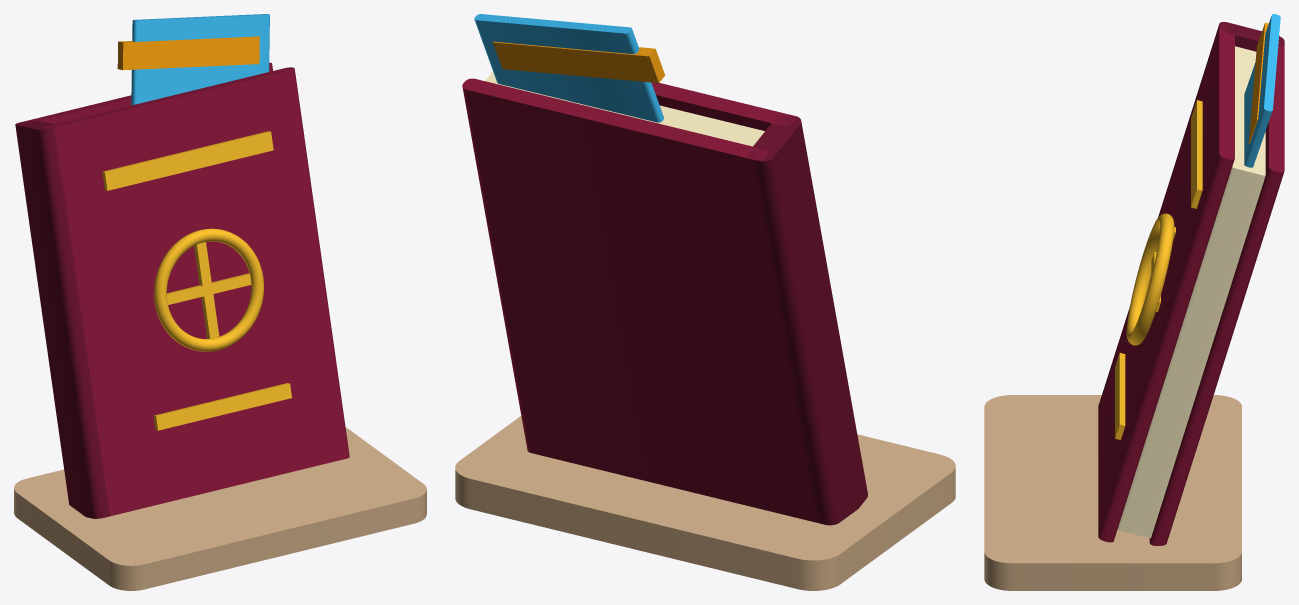
File: passport.glb
The picture shows the model from 3 angles, left to right: view 1: azimuth 30°, elevation 25°; view 2: azimuth 150°, elevation 25°; view 3: azimuth 270°, elevation 25°; orthographic projection. The views are drawn at different scales.
Visible parts, largest first — view 1: cover_front, plinth, spine, boarding_pass, globe_ring, ticket_stripe, gold_top, gold_bot, globe_v, cover_back, globe_h; view 2: cover_back, plinth, spine, boarding_pass, ticket_stripe, cover_front, pages; view 3: plinth, cover_front, pages, cover_back, globe_ring, boarding_pass, spine, gold_top, gold_bot, ticket_stripe.
Part boxes in pixels (left/top/right/bottom): cover_front: left=43, top=67, right=349, bottom=516; plinth: left=14, top=427, right=426, bottom=590; spine: left=15, top=120, right=109, bottom=518; boarding_pass: left=131, top=14, right=269, bottom=105; globe_ring: left=154, top=228, right=263, bottom=351; ticket_stripe: left=117, top=36, right=259, bottom=70; gold_top: left=102, top=131, right=273, bottom=190; gold_bot: left=153, top=383, right=291, bottom=430; globe_v: left=194, top=242, right=219, bottom=338; cover_back: left=23, top=62, right=272, bottom=123; globe_h: left=167, top=273, right=251, bottom=304; cover_back: left=462, top=78, right=817, bottom=522; plinth: left=455, top=416, right=955, bottom=590; spine: left=748, top=114, right=867, bottom=525; boarding_pass: left=474, top=14, right=663, bottom=122; ticket_stripe: left=493, top=41, right=665, bottom=83; cover_front: left=651, top=82, right=795, bottom=130; pages: left=485, top=71, right=764, bottom=146; plinth: left=984, top=395, right=1241, bottom=590; cover_front: left=1098, top=24, right=1234, bottom=542; pages: left=1117, top=46, right=1265, bottom=538; cover_back: left=1149, top=39, right=1284, bottom=545; globe_ring: left=1126, top=213, right=1174, bottom=345; boarding_pass: left=1244, top=14, right=1280, bottom=167; spine: left=1098, top=22, right=1284, bottom=408; gold_top: left=1191, top=100, right=1202, bottom=208; gold_bot: left=1115, top=353, right=1125, bottom=439; ticket_stripe: left=1248, top=22, right=1268, bottom=143.
Bounding box in the file's own units: 0.34 × 0.4579 × 0.2562.
